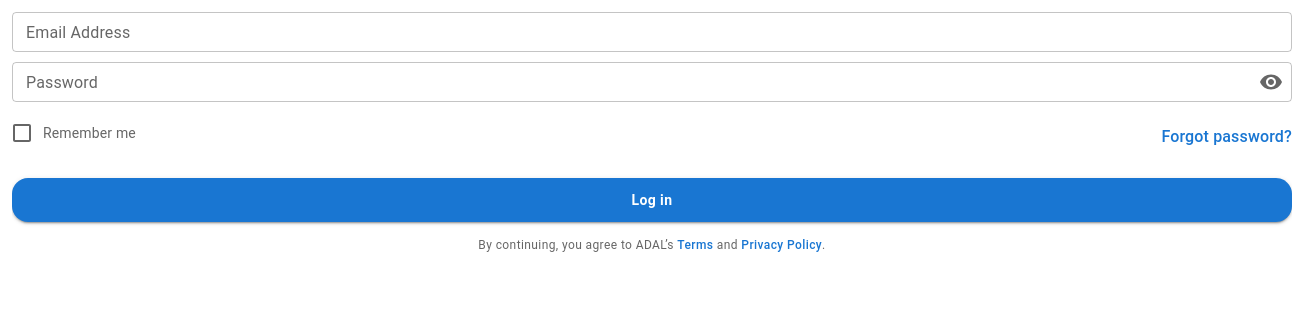
it: LoginForm › prioritizes backend detail over message in auth errors
The width and height of the screenshot is (1304, 335).
Type "user@example.com" into the field labelled "Email Address". click: point(652, 32)
box: top-left (12, 12), bottom-right (1292, 52)
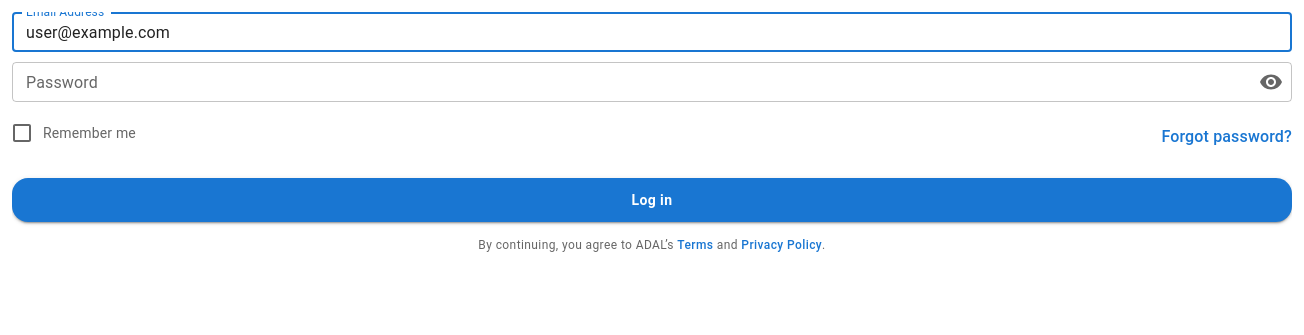
Type "password123" into the password field labelled "Password". click: point(628, 82)
box: top-left (12, 62), bottom-right (1243, 102)
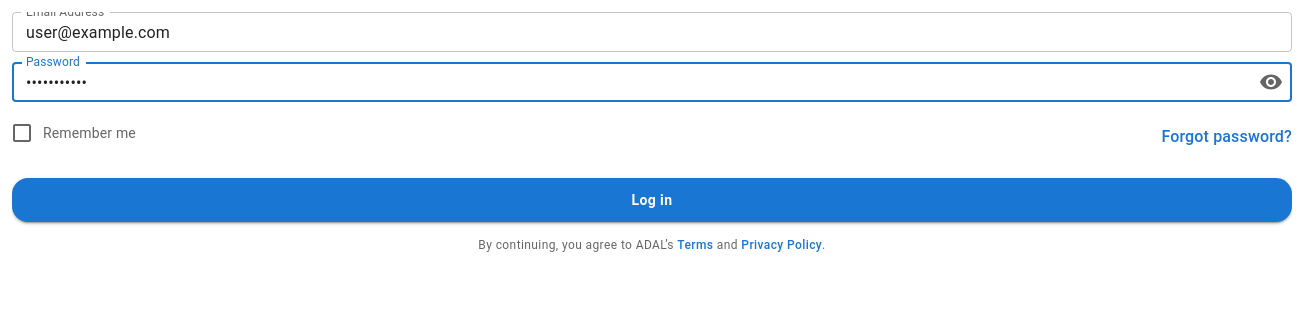
Click the button "Log in". click: point(652, 200)
box: top-left (12, 178), bottom-right (1292, 222)
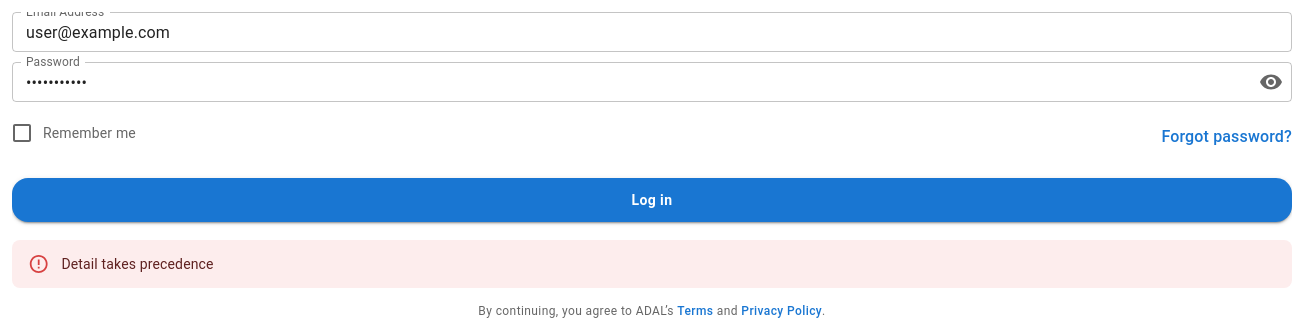
Expected: the text "Detail takes precedence" is shown, top-left (61, 256), bottom-right (214, 272)
